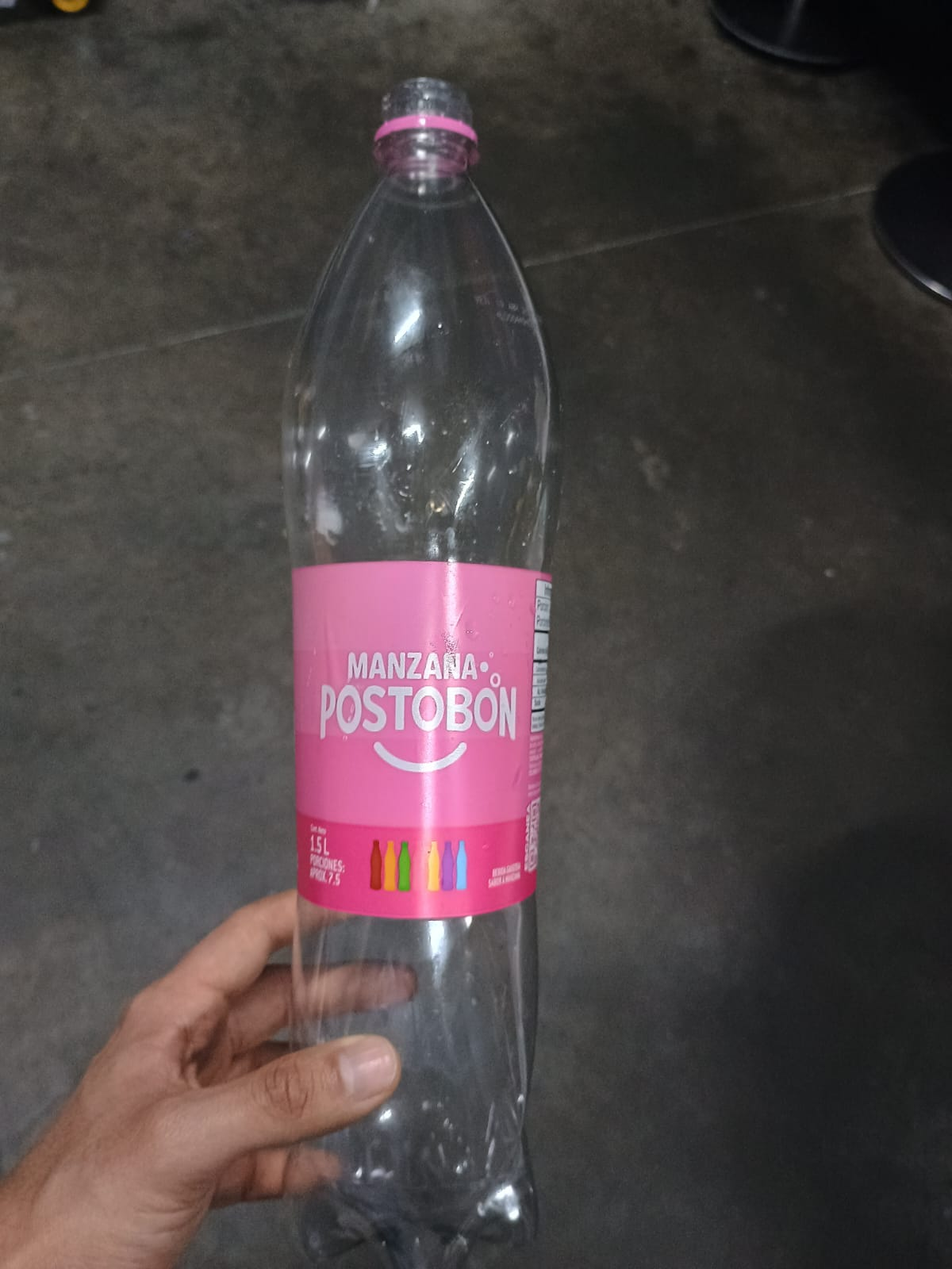Plastico: (281, 74, 559, 1269)
